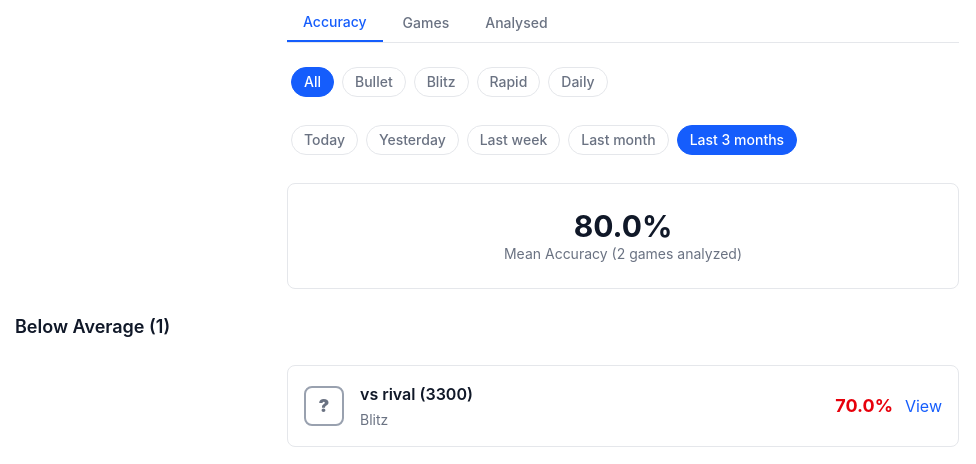
PlayerPage › filters accuracy analysis by time class
Check: the text "80.0%" is shown, box top-left (574, 208), bottom-right (672, 244)
Check: the text "Mean Accuracy (2 games analyzed)" is shown, box top-left (504, 245), bottom-right (742, 262)
Note: Filter to bullet only: 1 game with 90% accuracy
Click the button "Bullet" at {"x": 374, "y": 82}, box top-left (342, 67), bottom-right (406, 97)
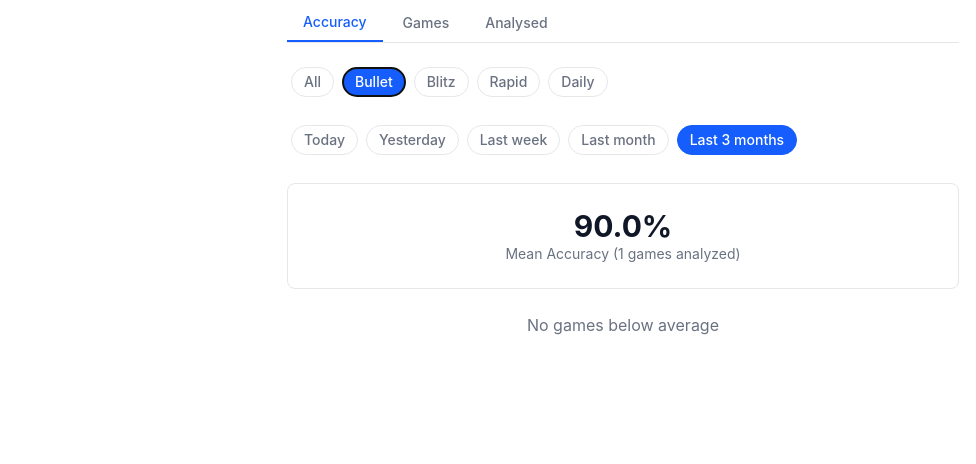
Check: the text "90.0%" is shown, box top-left (574, 208), bottom-right (672, 244)
Check: the text "Mean Accuracy (1 games analyzed)" is shown, box top-left (505, 245), bottom-right (741, 262)
